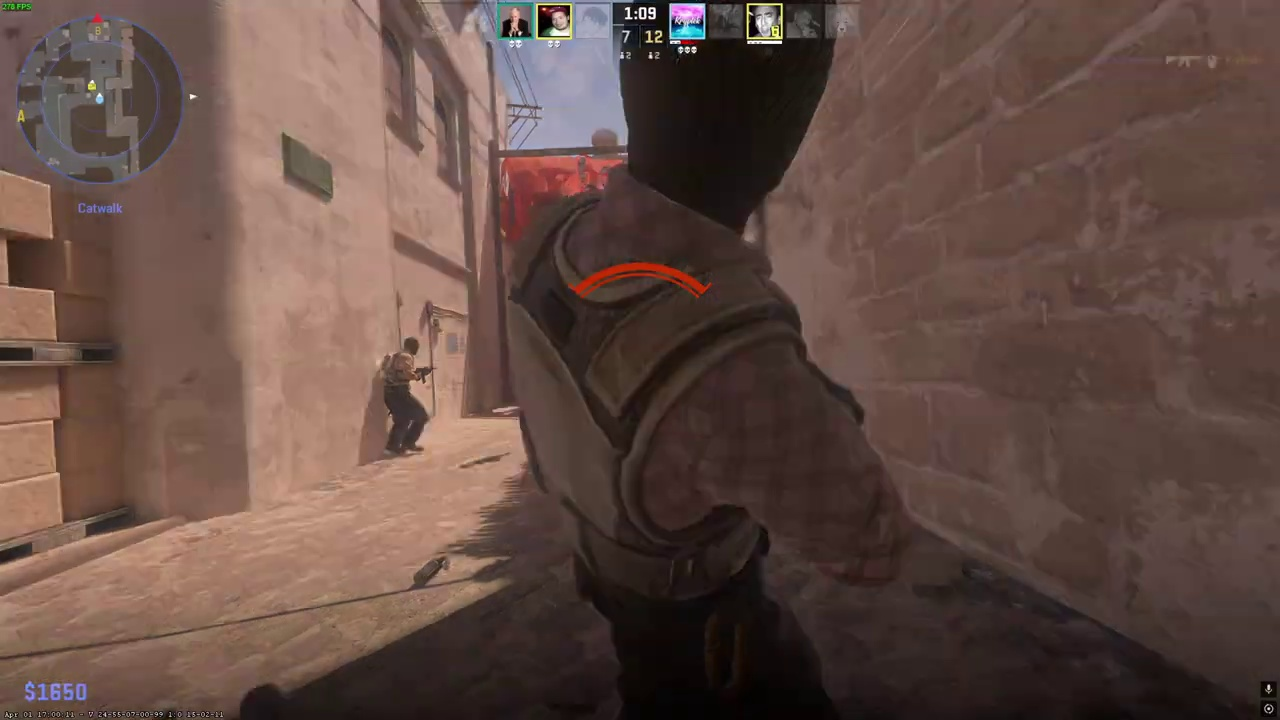Terrorist: (380, 336, 433, 455)
